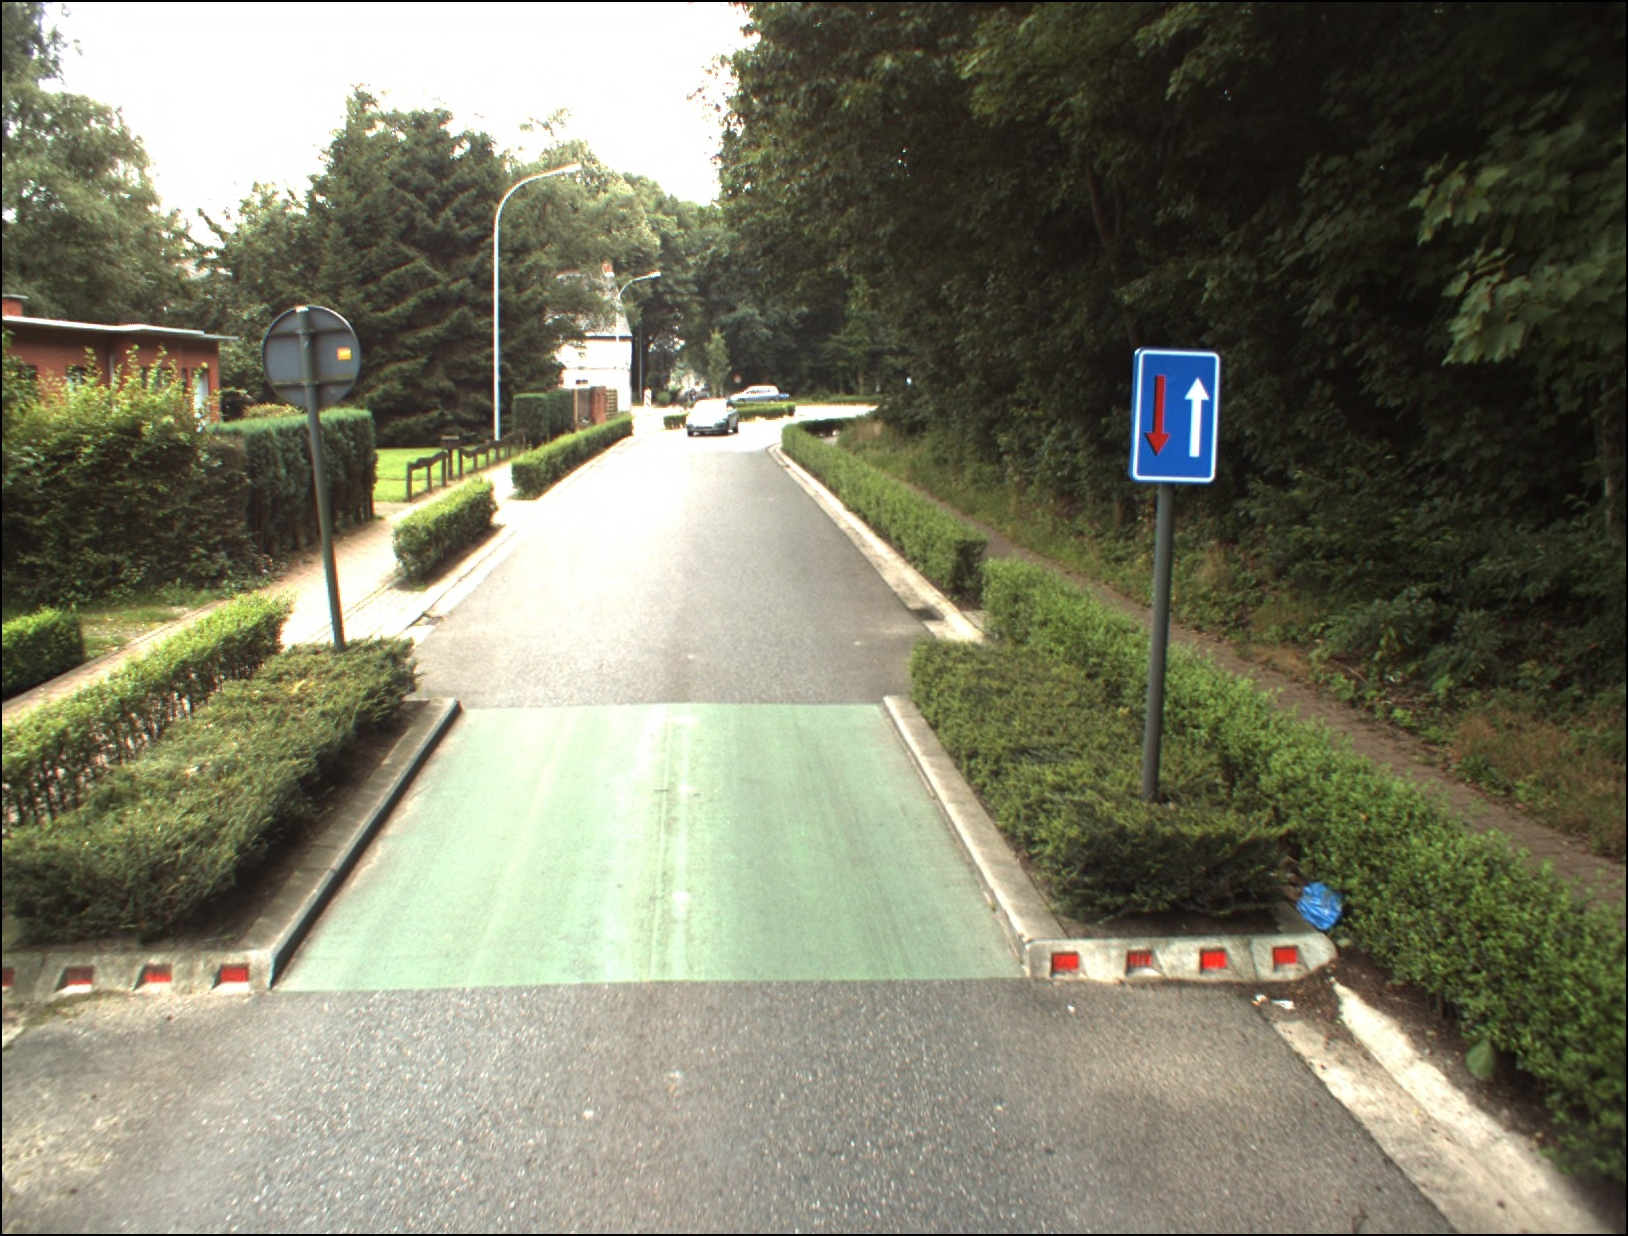roadnarrow1: (1129, 347, 1216, 479)
